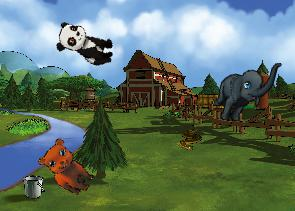bear: (33, 134, 103, 199)
elephant: (210, 49, 282, 131)
panda: (52, 19, 119, 69)
